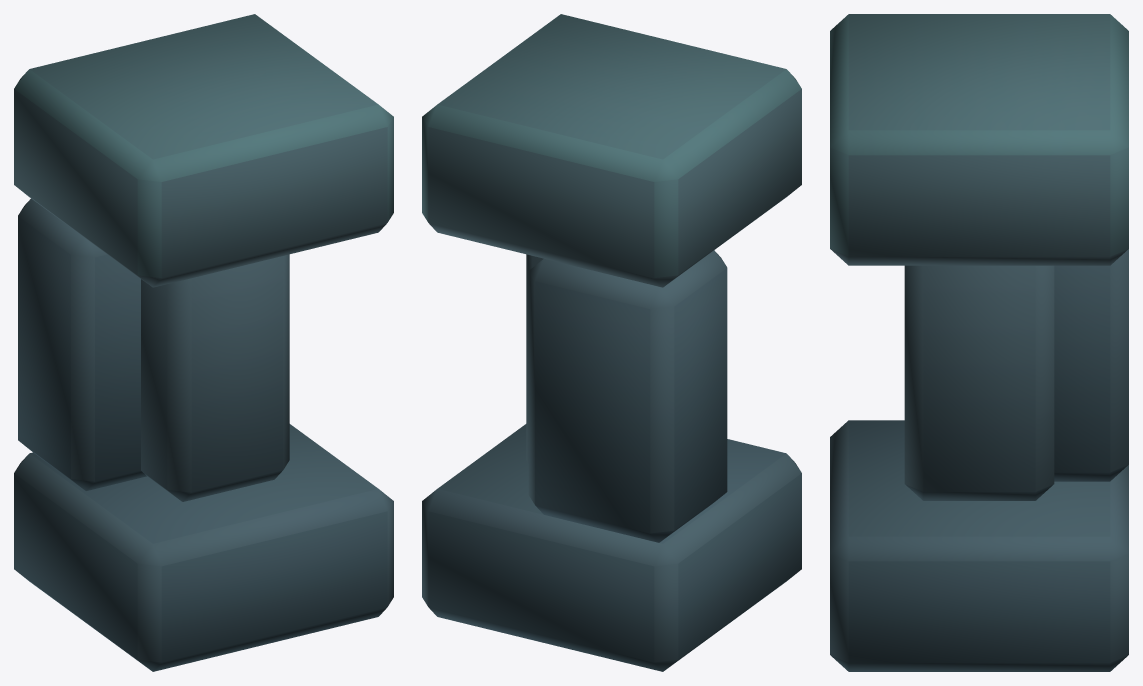
File: wall_pannel_corner_hue_2.fbx
3 renders of one model, left to right at view 1: azimuth 30°, elevation 25°; view 2: azimuth 150°, elevation 25°; view 3: azimuth 270°, elevation 25°, orthographic. The views are drawn at different scales.
Visible parts, largest first — view 1: wall_pannel_corner_hue_2; view 2: wall_pannel_corner_hue_2; view 3: wall_pannel_corner_hue_2.
Part boxes in pixels (x1,y1,x2,y2): wall_pannel_corner_hue_2: (14,14,393,671); wall_pannel_corner_hue_2: (422,14,801,671); wall_pannel_corner_hue_2: (830,14,1128,671).
Size of the model in its own units: 52.34 by 100 by 50.
